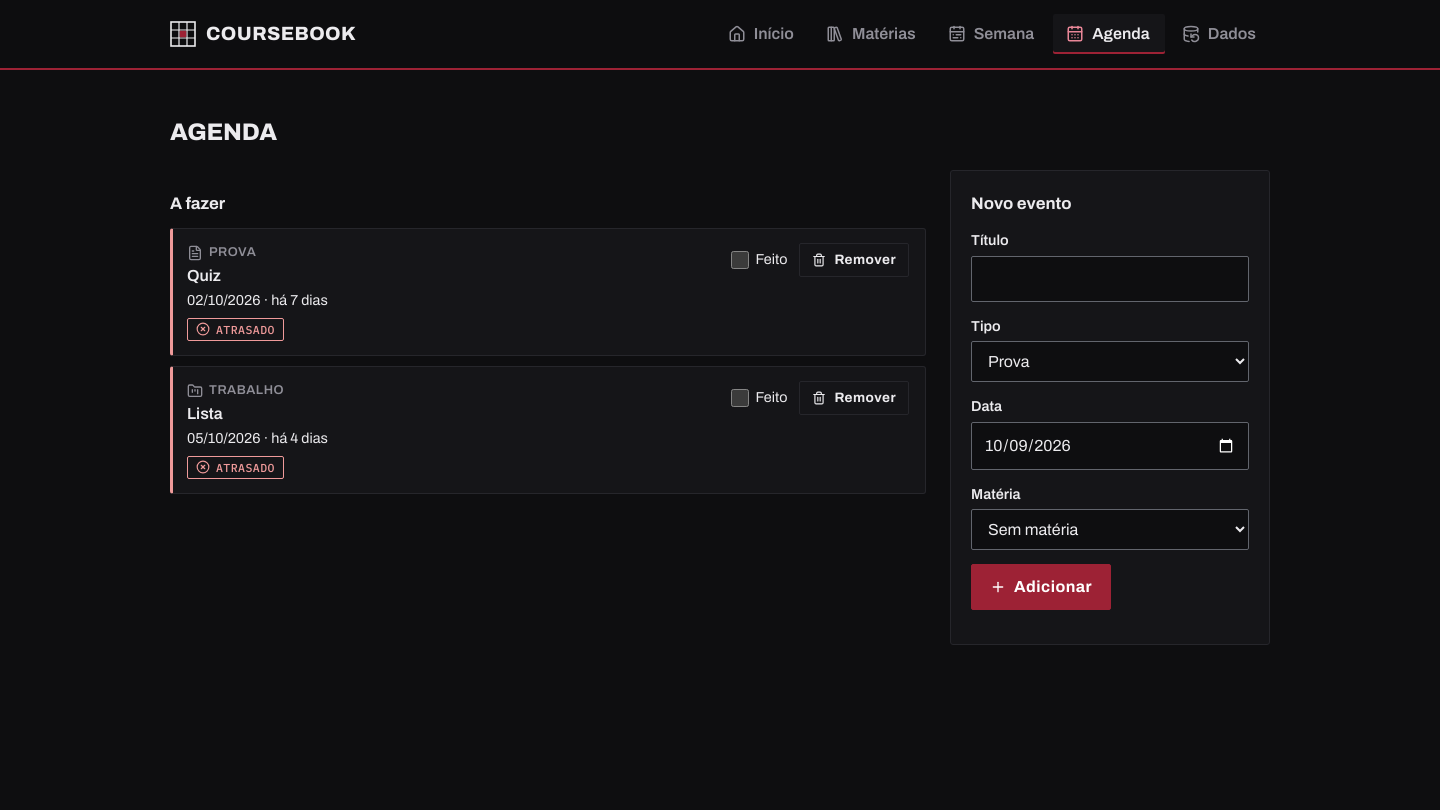
Test: AvisoDesfazer › fechar some com o aviso sem voltar nada
Click the button with aria-label "Remover Quiz" at [854, 260], box [800, 243, 909, 277]
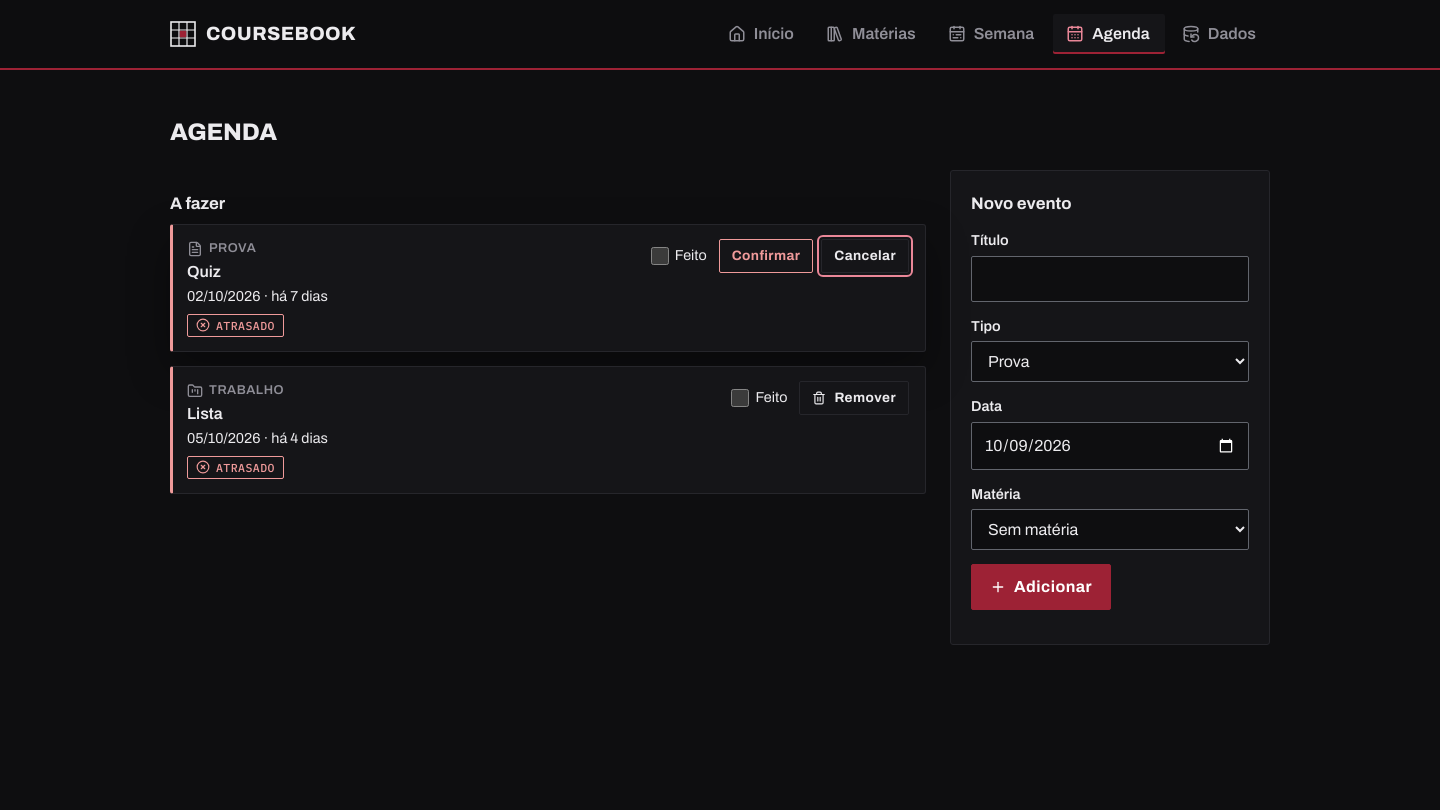
Click the button with aria-label "Confirmar remoção de Quiz" at [766, 256], box [719, 239, 813, 273]
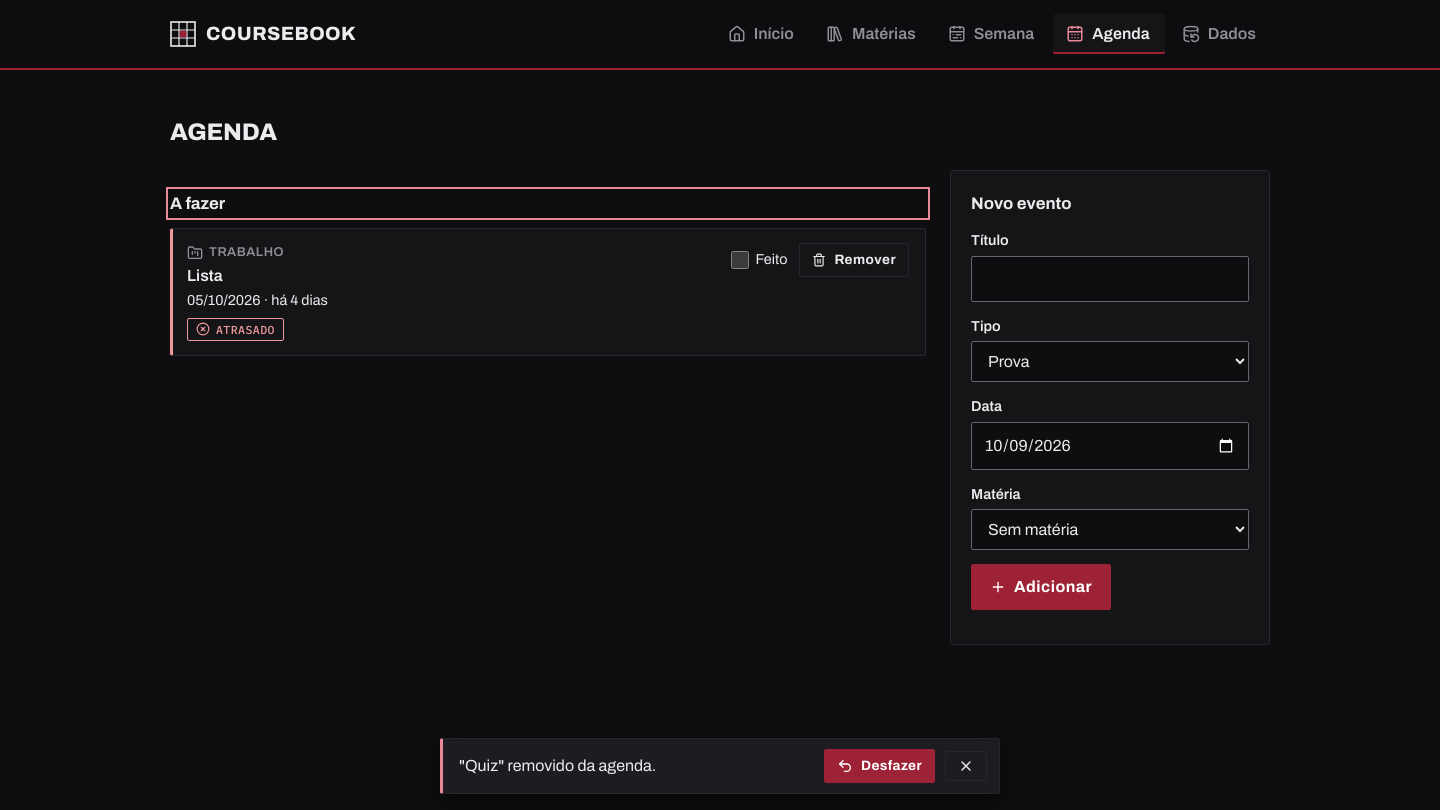
Click the button named "Fechar aviso" at [966, 766], box [945, 751, 987, 781]
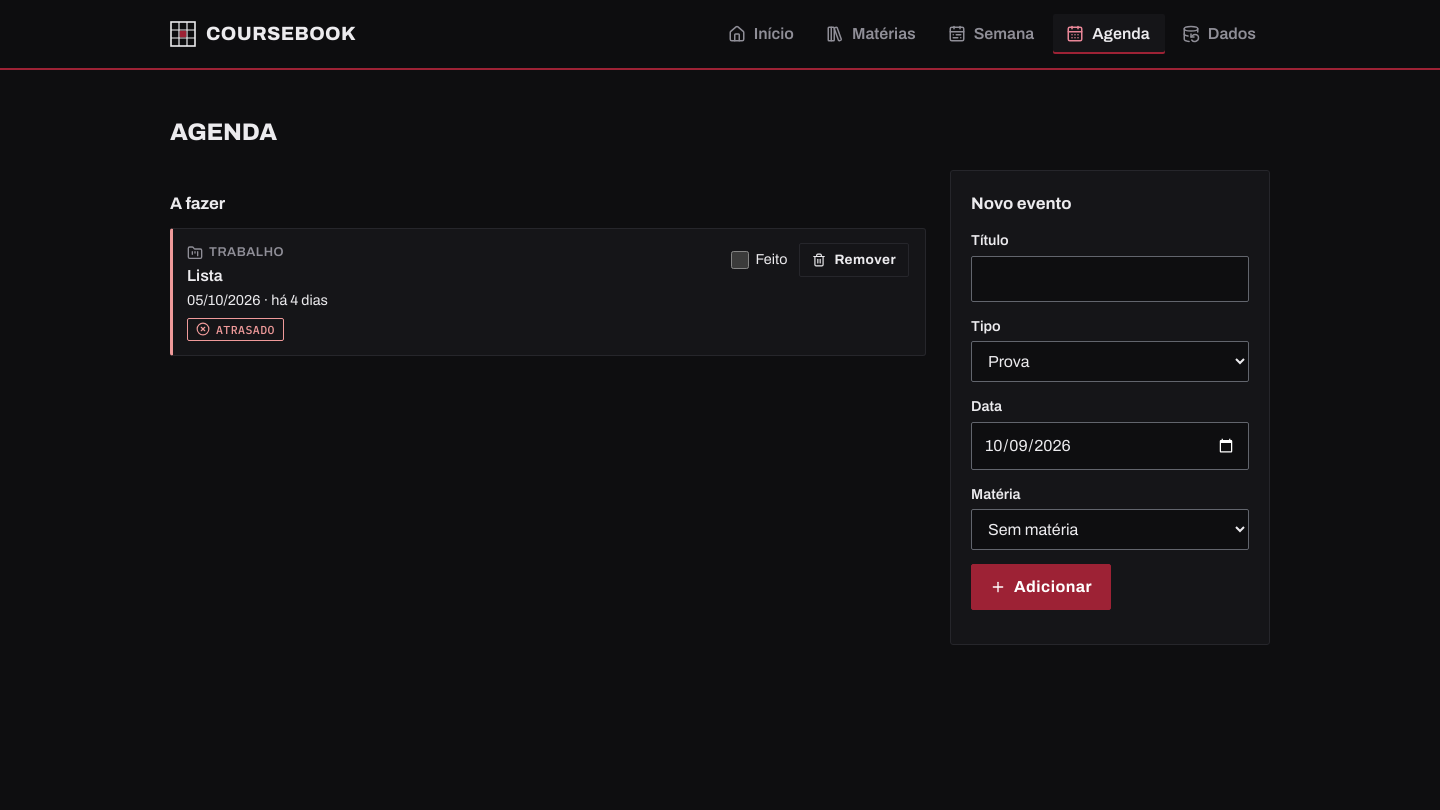
Check: the button "Desfazer" is gone
Check: the text "Quiz" is gone
